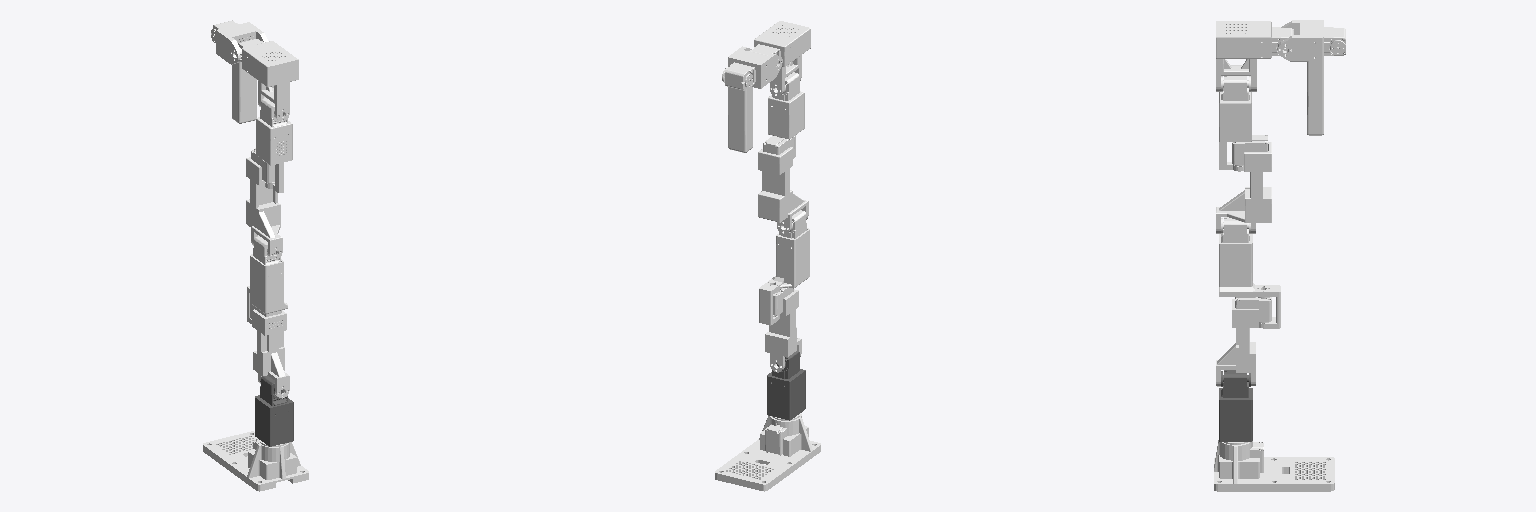
robot.urdf — gello_flexiv_urdf_v3:
<?xml version="1.0" encoding="utf-8"?>
<!-- This URDF was automatically created by SolidWorks to URDF Exporter! Originally created by Stephen Brawner (brawner@gmail.com) 
     Commit Version: 1.6.0-4-g7f85cfe  Build Version: 1.6.7995.38578
     For more information, please see http://wiki.ros.org/sw_urdf_exporter -->
<robot
  name="gello_flexiv_urdf_v3">
   <link name="world" />
   <joint name="joint0" type="fixed">
    <origin rpy="0 0 0" xyz="0 0 0" />
    <parent link="world" />
    <child link="base_link" />
  </joint>
  <link
    name="base_link">
    <inertial>
      <origin
        xyz="-0.000107112325995473 0.0284941401934845 0.0157197734274271"
        rpy="0 0 0" />
      <mass
        value="0.159972565808907" />
      <inertia
        ixx="0.000279749981651015"
        ixy="1.03603995502193E-06"
        ixz="-1.32026174868359E-07"
        iyy="9.74063851276373E-05"
        iyz="3.48457303023201E-05"
        izz="0.000332483511869283" />
    </inertial>
    <visual>
      <origin
        xyz="0 0 0"
        rpy="0 0 0" />
      <geometry>
        <mesh
          filename="package://gello_flexiv_urdf_v3/meshes/base_link.STL" />
      </geometry>
      <material
        name="">
        <color
          rgba="1 1 1 1" />
      </material>
    </visual>
    <collision>
      <origin
        xyz="0 0 0"
        rpy="0 0 0" />
      <geometry>
        <mesh
          filename="package://gello_flexiv_urdf_v3/meshes/base_link.STL" />
      </geometry>
    </collision>
  </link>
  <link
    name="link1">
    <inertial>
      <origin
        xyz="4.42040733461546E-08 0.000283036062904711 -0.0256804648065939"
        rpy="0 0 0" />
      <mass
        value="0.0740617594022848" />
      <inertia
        ixx="3.03756324592665E-05"
        ixy="7.1340366072387E-11"
        ixz="1.3662365017411E-09"
        iyy="2.88350095204961E-05"
        iyz="-4.913598746706E-08"
        izz="2.07497182090045E-05" />
    </inertial>
    <visual>
      <origin
        xyz="0 0 0"
        rpy="0 0 0" />
      <geometry>
        <mesh
          filename="package://gello_flexiv_urdf_v3/meshes/link1.STL" />
      </geometry>
      <material
        name="">
        <color
          rgba="0.501960784313725 0.501960784313725 0.501960784313725 0.25" />
      </material>
    </visual>
    <collision>
      <origin
        xyz="0 0 0"
        rpy="0 0 0" />
      <geometry>
        <mesh
          filename="package://gello_flexiv_urdf_v3/meshes/link1.STL" />
      </geometry>
    </collision>
  </link>
  <joint
    name="joint1"
    type="continuous">
    <origin
      xyz="0 0 0.11454"
      rpy="0 0 0" />
    <parent
      link="base_link" />
    <child
      link="link1" />
    <axis
      xyz="0 0 1" />
    <limit
      lower="-1.57"
      upper="1.57"
      effort="500"
      velocity="10" />
  </joint>
  <link
    name="link2">
    <inertial>
      <origin
        xyz="2.87861827178576E-05 0.0552026842656658 0.0147654409894797"
        rpy="0 0 0" />
      <mass
        value="0.0753174721949631" />
      <inertia
        ixx="5.52578961096171E-05"
        ixy="-1.0724555560272E-08"
        ixz="5.68892871116728E-09"
        iyy="1.65121510758336E-05"
        iyz="2.27212466148452E-06"
        izz="5.22467554372306E-05" />
    </inertial>
    <visual>
      <origin
        xyz="0 0 0"
        rpy="0 0 0" />
      <geometry>
        <mesh
          filename="package://gello_flexiv_urdf_v3/meshes/link2.STL" />
      </geometry>
      <material
        name="">
        <color
          rgba="1 1 1 1" />
      </material>
    </visual>
    <collision>
      <origin
        xyz="0 0 0"
        rpy="0 0 0" />
      <geometry>
        <mesh
          filename="package://gello_flexiv_urdf_v3/meshes/link2.STL" />
      </geometry>
    </collision>
  </link>
  <joint
    name="joint2"
    type="continuous">
    <origin
      xyz="0 0.02555 0.02086"
      rpy="1.5707963267949 0 0" />
    <parent
      link="link1" />
    <child
      link="link2" />
    <axis
      xyz="0 0 -1" />
    <limit
      lower="-1.57"
      upper="1.57"
      effort="500"
      velocity="10" />
  </joint>
  <link
    name="link3">
    <inertial>
      <origin
        xyz="-0.00902724630621629 0.0290512088672225 -0.0231115617533807"
        rpy="0 0 0" />
      <mass
        value="0.0932722330326927" />
      <inertia
        ixx="8.04182975107336E-05"
        ixy="4.35780863888647E-06"
        ixz="-5.26138931583602E-06"
        iyy="5.66651157255922E-05"
        iyz="2.00203019275173E-05"
        izz="4.02028173127608E-05" />
    </inertial>
    <visual>
      <origin
        xyz="0 0 0"
        rpy="0 0 0" />
      <geometry>
        <mesh
          filename="package://gello_flexiv_urdf_v3/meshes/link3.STL" />
      </geometry>
      <material
        name="">
        <color
          rgba="1 1 1 0.25" />
      </material>
    </visual>
    <collision>
      <origin
        xyz="0 0 0"
        rpy="0 0 0" />
      <geometry>
        <mesh
          filename="package://gello_flexiv_urdf_v3/meshes/link3.STL" />
      </geometry>
    </collision>
  </link>
  <joint
    name="joint3"
    type="continuous">
    <origin
      xyz="3.33329999999965E-05 0.12307958857722 -0.00921665402077125"
      rpy="1.5707963267949 0 0" />
    <parent
      link="link2" />
    <child
      link="link3" />
    <axis
      xyz="0 0 -1" />
    <limit
      lower="-1.57"
      upper="1.57"
      effort="500"
      velocity="10" />
  </joint>
  <link
    name="link4">
    <inertial>
      <origin
        xyz="0.00923915061833139 0.0557675022980221 0.0024985577986297"
        rpy="0 0 0" />
      <mass
        value="0.0923443706340049" />
      <inertia
        ixx="8.78908518132079E-05"
        ixy="-4.06669152204837E-06"
        ixz="3.2847872495787E-06"
        iyy="2.99202257860588E-05"
        iyz="1.34168479919283E-05"
        izz="7.78581846137501E-05" />
    </inertial>
    <visual>
      <origin
        xyz="0 0 0"
        rpy="0 0 0" />
      <geometry>
        <mesh
          filename="package://gello_flexiv_urdf_v3/meshes/link4.STL" />
      </geometry>
      <material
        name="">
        <color
          rgba="1 1 1 0.25" />
      </material>
    </visual>
    <collision>
      <origin
        xyz="0 0 0"
        rpy="0 0 0" />
      <geometry>
        <mesh
          filename="package://gello_flexiv_urdf_v3/meshes/link4.STL" />
      </geometry>
    </collision>
  </link>
  <joint
    name="joint4"
    type="continuous">
    <origin
      xyz="-0.0106666629999999 0.00921665402077167 -0.0809234768240421"
      rpy="-1.5707963267949 0 0" />
    <parent
      link="link3" />
    <child
      link="link4" />
    <axis
      xyz="0 0 -1" />
    <limit
      lower="-1.57"
      upper="1.57"
      effort="500"
      velocity="10" />
  </joint>
  <link
    name="link5">
    <inertial>
      <origin
        xyz="-1.93588073327811E-05 -0.00727739220759811 0.0693671643030015"
        rpy="0 0 0" />
      <mass
        value="0.0593546590861755" />
      <inertia
        ixx="3.22765101141685E-05"
        ixy="-7.17409875741211E-09"
        ixz="6.36259265649784E-09"
        iyy="3.09883147818667E-05"
        iyz="-1.6852314986758E-06"
        izz="1.42161897457631E-05" />
    </inertial>
    <visual>
      <origin
        xyz="0 0 0"
        rpy="0 0 0" />
      <geometry>
        <mesh
          filename="package://gello_flexiv_urdf_v3/meshes/link5.STL" />
      </geometry>
      <material
        name="">
        <color
          rgba="1 1 1 0.25" />
      </material>
    </visual>
    <collision>
      <origin
        xyz="0 0 0"
        rpy="0 0 0" />
      <geometry>
        <mesh
          filename="package://gello_flexiv_urdf_v3/meshes/link5.STL" />
      </geometry>
    </collision>
  </link>
  <joint
    name="joint5"
    type="continuous">
    <origin
      xyz="0.0106666629999999 0.0835623640316056 0.0199833329999996"
      rpy="-1.5707963267949 0 0" />
    <parent
      link="link4" />
    <child
      link="link5" />
    <axis
      xyz="0 0 1" />
    <limit
      lower="-1.57"
      upper="1.57"
      effort="500"
      velocity="10" />
  </joint>
  <link
    name="link6">
    <inertial>
      <origin
        xyz="0.000213104246736012 -0.0533087380276014 -0.0171994790827167"
        rpy="0 0 0" />
      <mass
        value="0.113419784624398" />
      <inertia
        ixx="7.19605742375817E-05"
        ixy="1.657279966752E-08"
        ixz="-1.04442558758515E-07"
        iyy="5.44370583259835E-05"
        iyz="3.32164559526982E-06"
        izz="5.33935297301596E-05" />
    </inertial>
    <visual>
      <origin
        xyz="0 0 0"
        rpy="0 0 0" />
      <geometry>
        <mesh
          filename="package://gello_flexiv_urdf_v3/meshes/link6.STL" />
      </geometry>
      <material
        name="">
        <color
          rgba="1 1 1 1" />
      </material>
    </visual>
    <collision>
      <origin
        xyz="0 0 0"
        rpy="0 0 0" />
      <geometry>
        <mesh
          filename="package://gello_flexiv_urdf_v3/meshes/link6.STL" />
      </geometry>
    </collision>
  </link>
  <joint
    name="joint6"
    type="continuous">
    <origin
      xyz="-3.33330000001075E-05 0.021263333 0.115101270567133"
      rpy="-1.5707963267949 0 0" />
    <parent
      link="link5" />
    <child
      link="link6" />
    <axis
      xyz="0 0 -1" />
    <limit
      lower="-1.57"
      upper="1.57"
      effort="500"
      velocity="10" />
  </joint>
  <link
    name="link7">
    <inertial>
      <origin
        xyz="0.0343825126543309 -0.0330080693173578 0.0310408087388683"
        rpy="0 0 0" />
      <mass
        value="0.108746365955699" />
      <inertia
        ixx="0.000182315082627034"
        ixy="1.76174949960954E-05"
        ixz="-2.8732846773013E-06"
        iyy="3.41902383698354E-05"
        iyz="1.81572416239741E-05"
        izz="0.000175748895686558" />
    </inertial>
    <visual>
      <origin
        xyz="0 0 0"
        rpy="0 0 0" />
      <geometry>
        <mesh
          filename="package://gello_flexiv_urdf_v3/meshes/link7.STL" />
      </geometry>
      <material
        name="">
        <color
          rgba="1 1 1 0.25" />
      </material>
    </visual>
    <collision>
      <origin
        xyz="0 0 0"
        rpy="0 0 0" />
      <geometry>
        <mesh
          filename="package://gello_flexiv_urdf_v3/meshes/link7.STL" />
      </geometry>
    </collision>
  </link>
  <joint
    name="joint7"
    type="continuous">
    <origin
      xyz="-0.0248 -0.05791667 0.03511"
      rpy="-3.14159265358979 -1.57079631189374 0" />
    <parent
      link="link6" />
    <child
      link="link7" />
    <axis
      xyz="0 0 1" />
    <limit
      lower="-1.57"
      upper="1.57"
      effort="500"
      velocity="10" />
  </joint>
  <link
    name="link8">
    <inertial>
      <origin
        xyz="0.0089207 -0.022866 -0.00675"
        rpy="0 0 0" />
      <mass
        value="0.0051415" />
      <inertia
        ixx="2.283E-06"
        ixy="6.2873E-07"
        ixz="-5.8357E-14"
        iyy="4.9225E-07"
        iyz="-1.8461E-13"
        izz="2.736E-06" />
    </inertial>
    <visual>
      <origin
        xyz="0 0 0"
        rpy="0 0 0" />
      <geometry>
        <mesh
          filename="package://gello_flexiv_urdf_v3/meshes/link8.STL" />
      </geometry>
      <material
        name="">
        <color
          rgba="1 1 1 1" />
      </material>
    </visual>
    <collision>
      <origin
        xyz="0 0 0"
        rpy="0 0 0" />
      <geometry>
        <mesh
          filename="package://gello_flexiv_urdf_v3/meshes/link8.STL" />
      </geometry>
    </collision>
  </link>
  <joint
    name="joint8"
    type="continuous">
    <origin
      xyz="0.06522 0 0.0103"
      rpy="0 0 0" />
    <parent
      link="link7" />
    <child
      link="link8" />
    <axis
      xyz="0 0 1" />
  </joint>
</robot>

--- What the picture shows (computed from the rendered views, not written in the file) ---
The picture shows the robot from 3 angles, left to right: view 1: azimuth 30°, elevation 25°; view 2: azimuth 150°, elevation 25°; view 3: azimuth 270°, elevation 25°; orthographic projection.
Model gello_flexiv_urdf_v3 with 10 links and 9 joints (8 continuous, 1 fixed), rooted at world, posed every joint at zero.
Links seen in each view (by area): view 1: base_link, link6, link7, link4, link2, link3, link5, link1; view 2: base_link, link7, link4, link3, link6, link2, link1, link5; view 3: base_link, link7, link6, link3, link4, link2, link5, link1.
Link boxes in pixels (x1,y1,x2,y2): base_link: [203, 431, 308, 491]; link6: [238, 39, 298, 121]; link7: [211, 20, 268, 123]; link4: [246, 148, 282, 259]; link2: [250, 303, 289, 398]; link3: [247, 235, 287, 323]; link5: [256, 97, 292, 192]; link1: [255, 375, 293, 446]; base_link: [715, 413, 820, 491]; link7: [722, 46, 782, 152]; link4: [758, 136, 808, 233]; link3: [759, 210, 809, 325]; link6: [749, 21, 810, 96]; link2: [765, 287, 801, 372]; link1: [767, 349, 805, 420]; link5: [768, 72, 804, 158]; base_link: [1214, 440, 1334, 491]; link7: [1277, 20, 1345, 135]; link6: [1216, 21, 1293, 91]; link3: [1219, 217, 1280, 328]; link4: [1216, 135, 1271, 233]; link2: [1216, 297, 1271, 386]; link5: [1219, 76, 1251, 171]; link1: [1219, 370, 1252, 441].
Size in the robot's own frame: 0.08 by 0.1646 by 0.6133 metres.
8 mesh visuals loaded from 9 distinct referenced files (8 binary STL); not drawn: 1 (reference not matched to a file when rendering).
